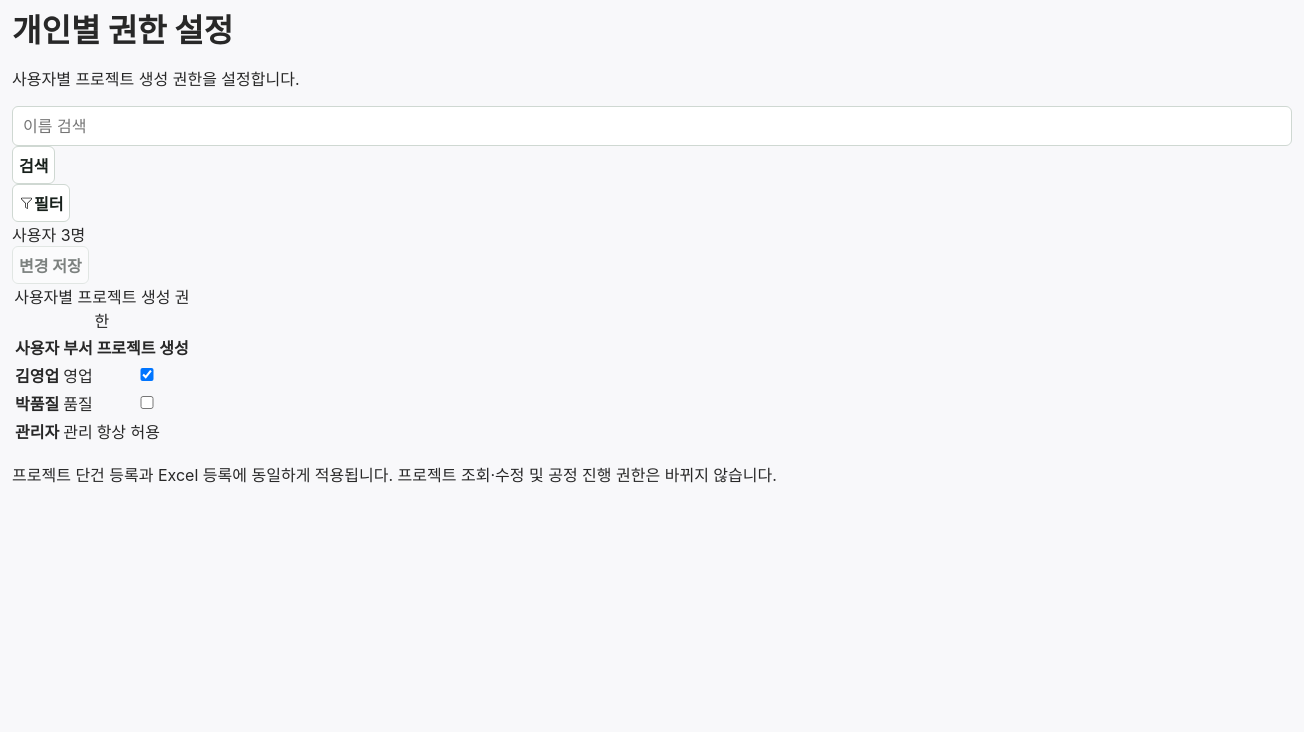
Test: 동시 변경 충돌은 편집 내용을 버리고 최신 버전을 다시 불러올 수 있다
Click the checkbox named "김영업 프로젝트 생성 허용". click: click(147, 375)
box: [101,368,193,381]
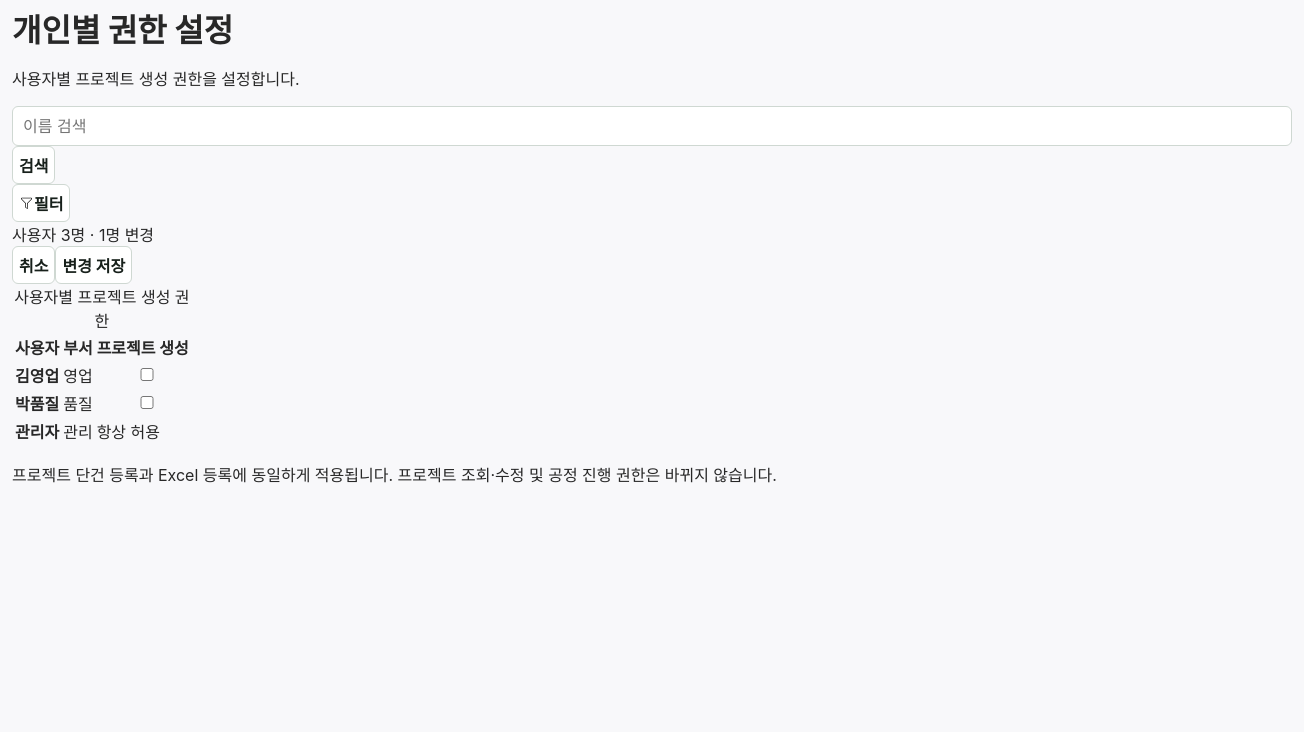
Click the button "변경 저장". click: click(94, 265)
box: [56,246,132,284]
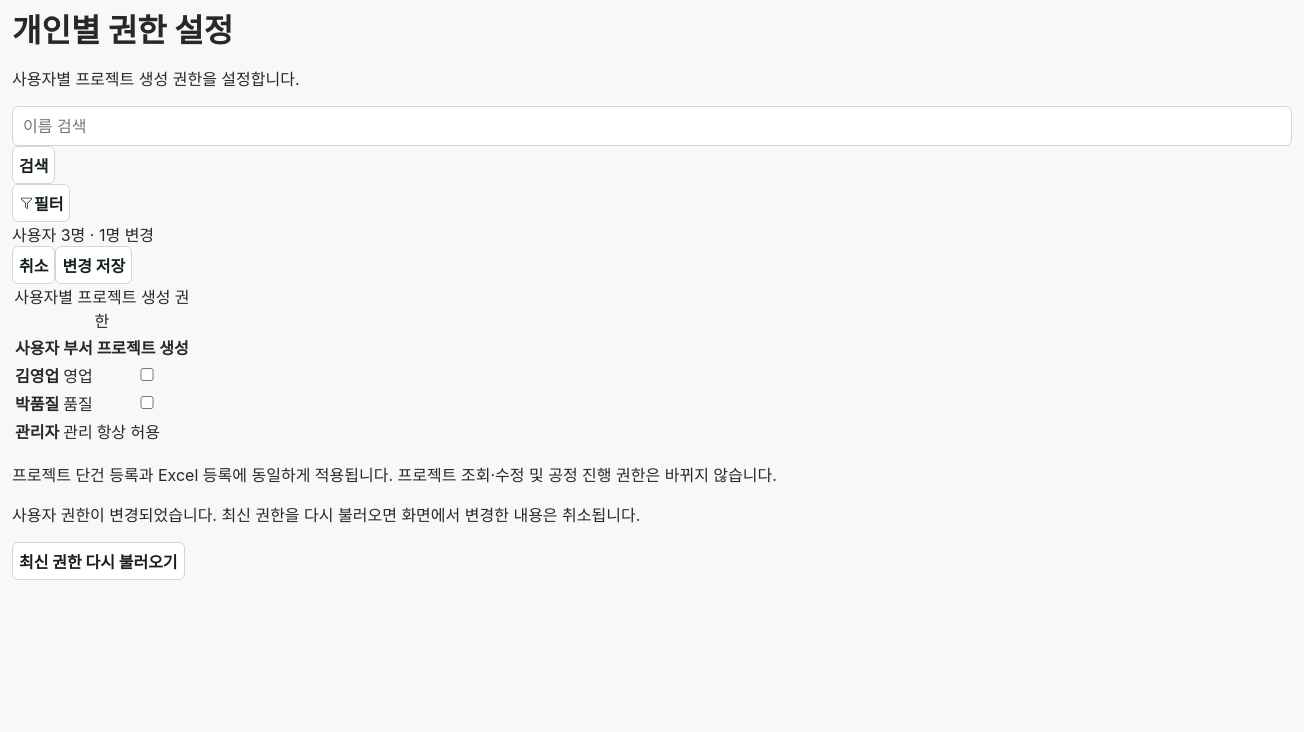
Expected: the message shows "화면에서 변경한 내용은 취소됩니다", [12,505,640,525]
Click the button "최신 권한 다시 불러오기". click: click(98, 561)
box: [12,542,185,580]
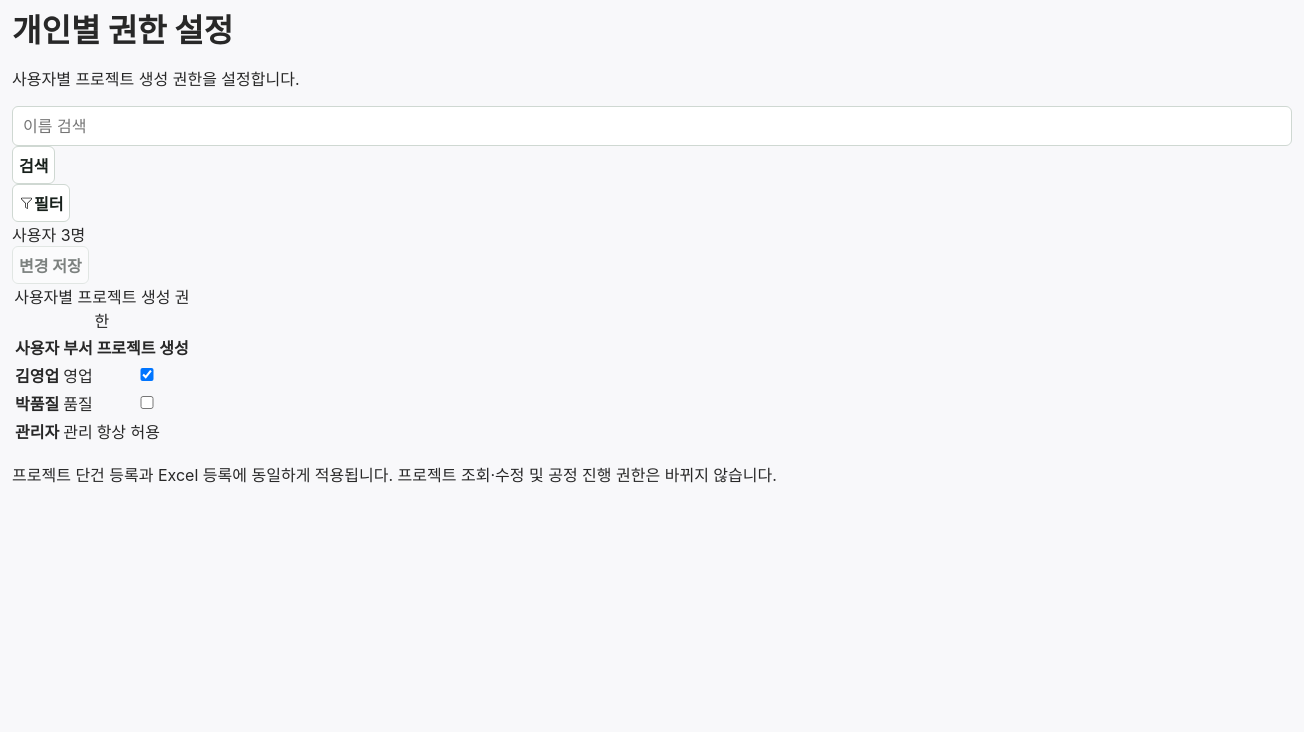
Expected: the checkbox named "김영업 프로젝트 생성 허용" is checked, [101,368,193,381]
